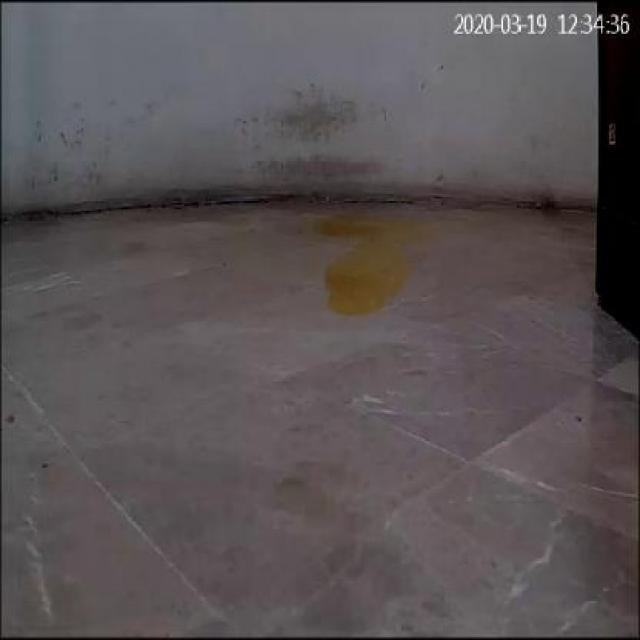spill: (305, 208, 433, 317)
